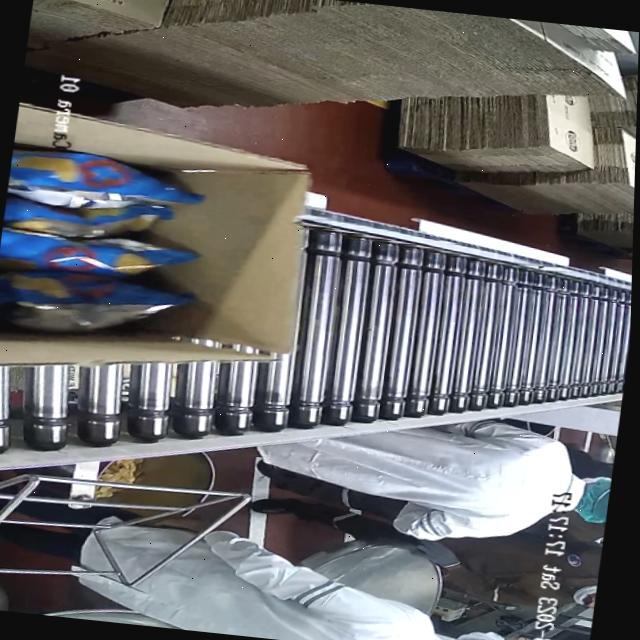PAPRIKA: (0, 118, 236, 368)
